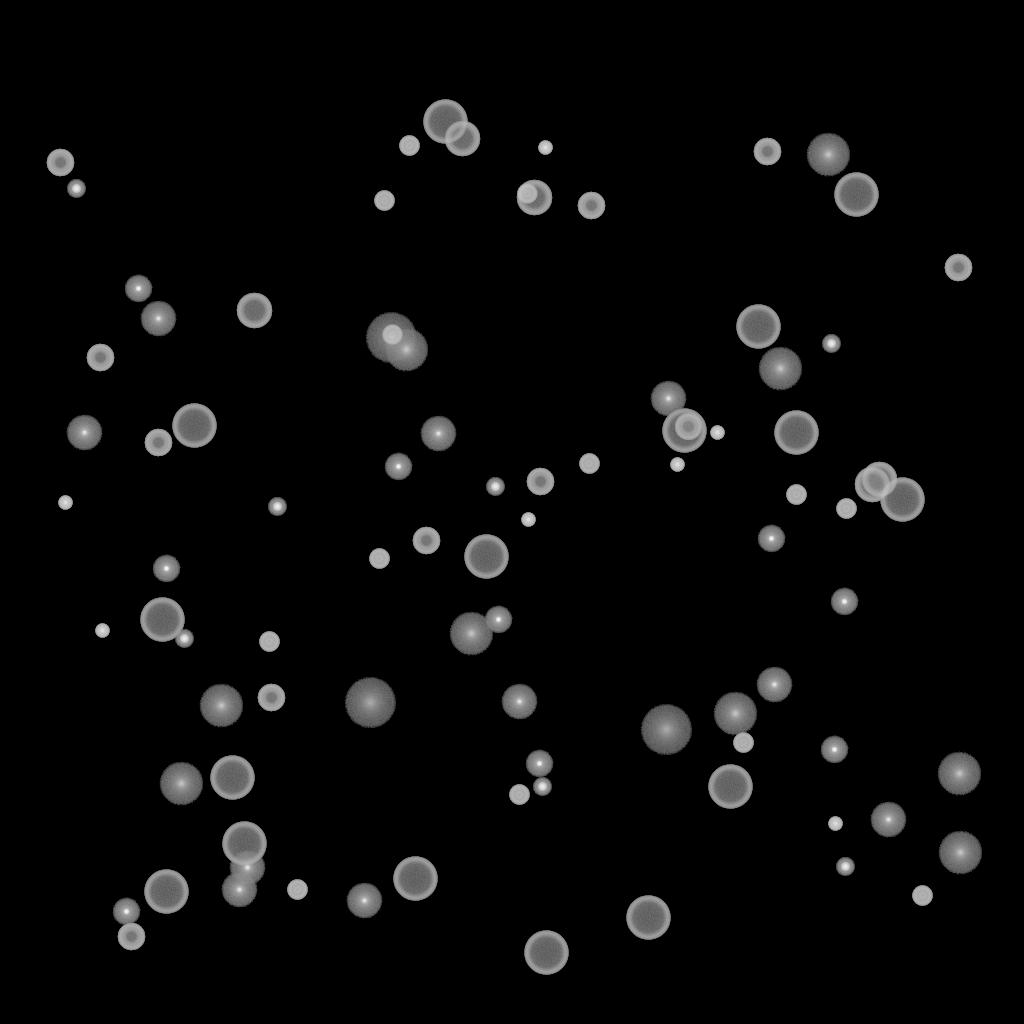depth:-10: (152, 555, 180, 583), (525, 750, 553, 778), (757, 525, 785, 553), (384, 453, 412, 481), (124, 275, 152, 303), (484, 606, 512, 634), (820, 736, 848, 764), (112, 898, 140, 926), (830, 588, 858, 616)
depth:-20: (268, 498, 286, 516), (533, 778, 551, 796), (822, 335, 840, 353), (486, 478, 504, 496), (175, 630, 193, 648), (67, 180, 85, 198), (836, 858, 854, 876)
depth:-30: (95, 624, 109, 638), (828, 817, 842, 831), (58, 496, 72, 510), (521, 513, 535, 527), (538, 141, 552, 155), (670, 458, 684, 472), (710, 426, 724, 440)
depth:-40: (369, 549, 389, 569), (399, 136, 419, 156), (374, 191, 394, 211), (287, 880, 307, 900), (733, 733, 753, 753), (912, 886, 932, 906), (786, 485, 806, 505), (579, 454, 599, 474), (382, 325, 402, 345), (259, 632, 279, 652), (509, 785, 529, 805), (517, 184, 537, 204), (836, 499, 856, 519)
depth:-50: (412, 527, 440, 555), (117, 923, 145, 951), (526, 468, 554, 496), (753, 138, 781, 166), (674, 413, 702, 441), (577, 192, 605, 220), (86, 344, 114, 372), (46, 149, 74, 177), (944, 254, 972, 282), (144, 429, 172, 457), (257, 684, 285, 712)
depth:-60: (444, 121, 480, 157), (861, 462, 897, 498), (854, 467, 890, 503), (516, 180, 552, 216), (236, 293, 272, 329)
depth:-70: (626, 896, 670, 940), (708, 765, 752, 809), (774, 411, 818, 455), (880, 478, 924, 522), (464, 535, 508, 579), (834, 173, 878, 217), (524, 931, 568, 975), (222, 822, 266, 866), (210, 756, 254, 800), (172, 404, 216, 448), (662, 409, 706, 453), (393, 857, 437, 901), (423, 100, 467, 144), (144, 870, 188, 914), (140, 598, 184, 642), (736, 305, 780, 349)
depth:0: (650, 381, 686, 417), (66, 415, 102, 451), (870, 802, 906, 838), (501, 684, 537, 720), (420, 416, 456, 452), (140, 301, 176, 337), (229, 850, 265, 886), (346, 883, 382, 919), (221, 872, 257, 908), (756, 667, 792, 703)
depth:10: (159, 762, 203, 806), (938, 831, 982, 875), (713, 692, 757, 736), (449, 612, 493, 656), (937, 752, 981, 796), (199, 684, 243, 728), (806, 133, 850, 177), (758, 347, 802, 391), (384, 328, 428, 372)
depth:20: (640, 705, 692, 755), (365, 313, 417, 363), (344, 678, 396, 728)
